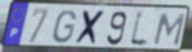7: (27, 7, 52, 46)
9: (106, 11, 128, 47)
G: (51, 9, 78, 45)
L: (127, 9, 151, 49)
M: (151, 12, 187, 47)
X: (73, 9, 108, 46)
